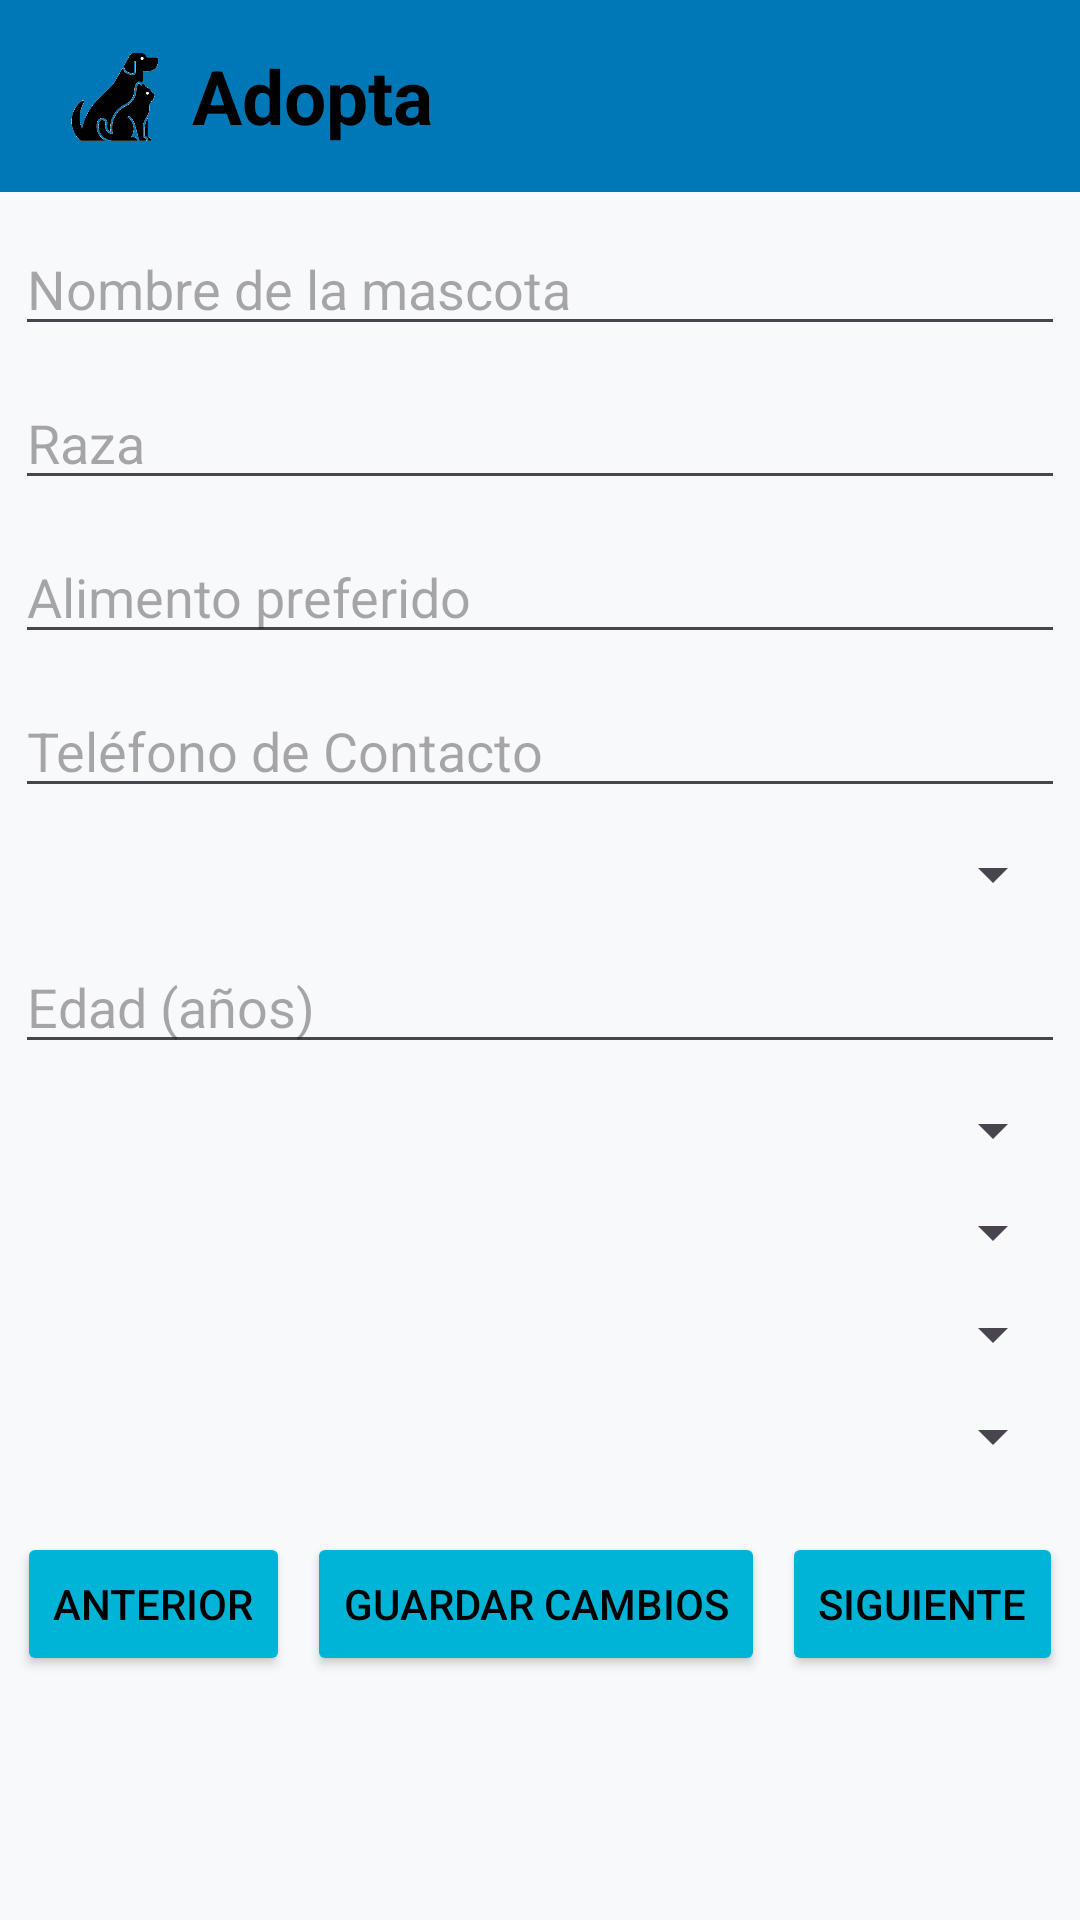

Where to tap for icons on this 1080*1920 app screen, as (x=x, y=y):
mascotas: (x=114, y=97)
